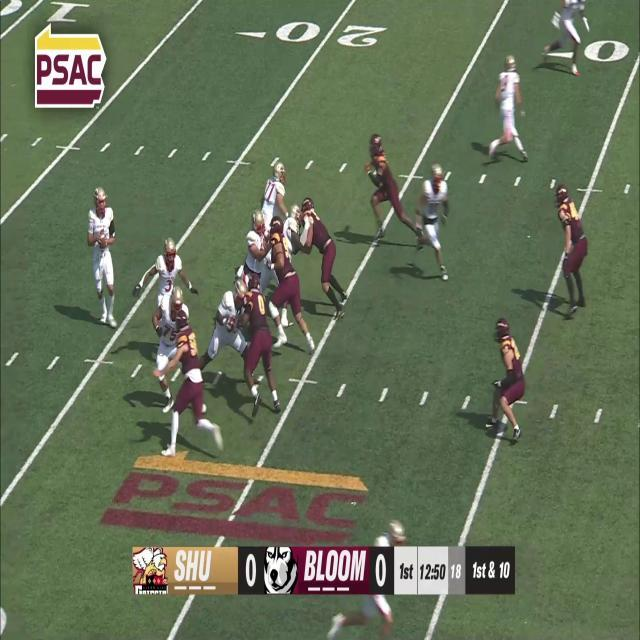football: (99, 233, 107, 249)
